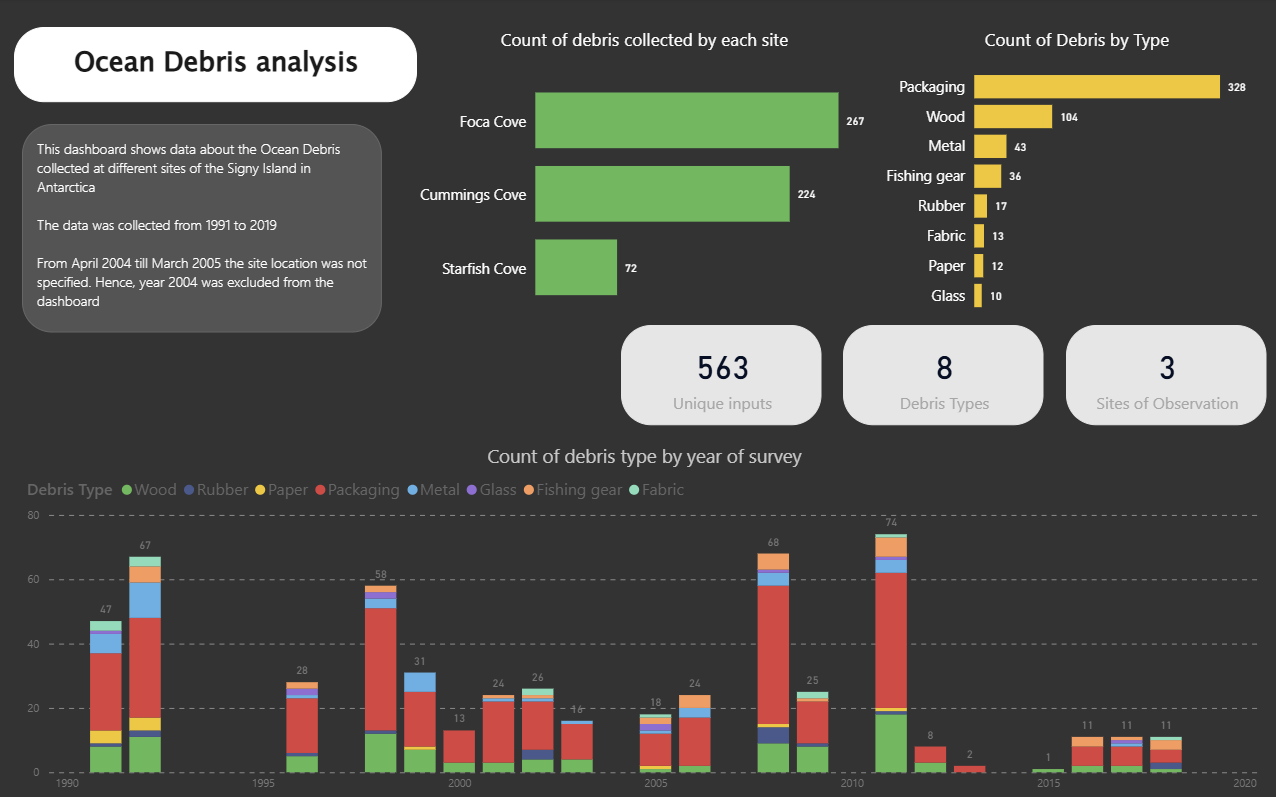

The page's visual inventory and layout, read from the dashboard file:
{"tool":"powerbi","page":{"name":"Page 1","canvas":[1280,800],"ordinal":0},"visuals":[{"type":"clusteredBarChart","title":"Count of Debris by Type","fields":{"Category":["stg_beach_debris.debris_type"],"Y":["CountNonNull(stg_beach_debris.debris_type)"]},"box":[876.8,28.9,403,297.3],"z":0},{"type":"clusteredBarChart","title":"Count of debris collected by each site","fields":{"Category":["stg_beach_debris.site"],"Y":["CountNonNull(stg_beach_debris.site)"]},"box":[411,28.9,471.8,305.2],"z":1000},{"type":"columnChart","title":"Count of debris type by year of survey","fields":{"Category":["stg_beach_debris.season_start_year"],"Series":["stg_beach_debris.debris_type"],"Y":["CountNonNull(stg_beach_debris.season_start_year)"]},"box":[25.9,443.9,1241.9,356.1],"z":2000},{"type":"card","fields":{"Values":["Count(stg_beach_debris.debris_type)"]},"box":[844.9,326.2,200.5,99.8],"z":3000},{"type":"card","fields":{"Values":["CountNonNull(stg_beach_debris.filename)"]},"box":[623.4,326.2,200.5,99.8],"z":4000},{"type":"card","fields":{"Values":["Count(stg_beach_debris.site)"]},"box":[1067.3,326.2,200.5,99.8],"z":5000},{"type":"textbox","box":[18,28.9,402,74.8],"z":6000},{"type":"textbox","box":[25.9,125.7,359.1,208.5],"z":6001}]}

Visuals, with their boxes in screenshot pixels (x1, y1, x2, y2), scaled from the page's 1280x800 canvas onto the 1276x797 screenshot:
"Count of Debris by Type" clusteredBarChart: detection(874, 29, 1275, 325)
"Count of debris collected by each site" clusteredBarChart: detection(410, 29, 880, 333)
"Count of debris type by year of survey" columnChart: detection(26, 442, 1264, 796)
card - Count(stg_beach_debris.debris_type): detection(842, 325, 1042, 424)
card - CountNonNull(stg_beach_debris.filename): detection(621, 325, 821, 424)
card - Count(stg_beach_debris.site): detection(1064, 325, 1264, 424)
textbox: detection(18, 29, 419, 103)
textbox: detection(26, 125, 384, 333)
